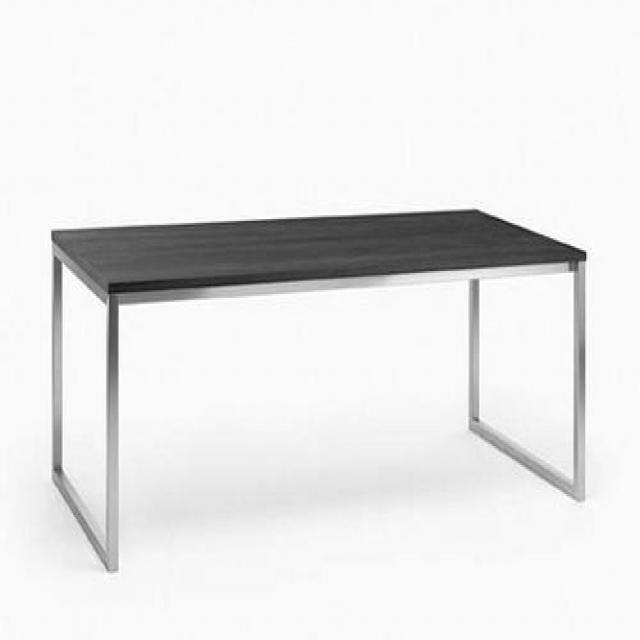table: (50, 208, 588, 572)
